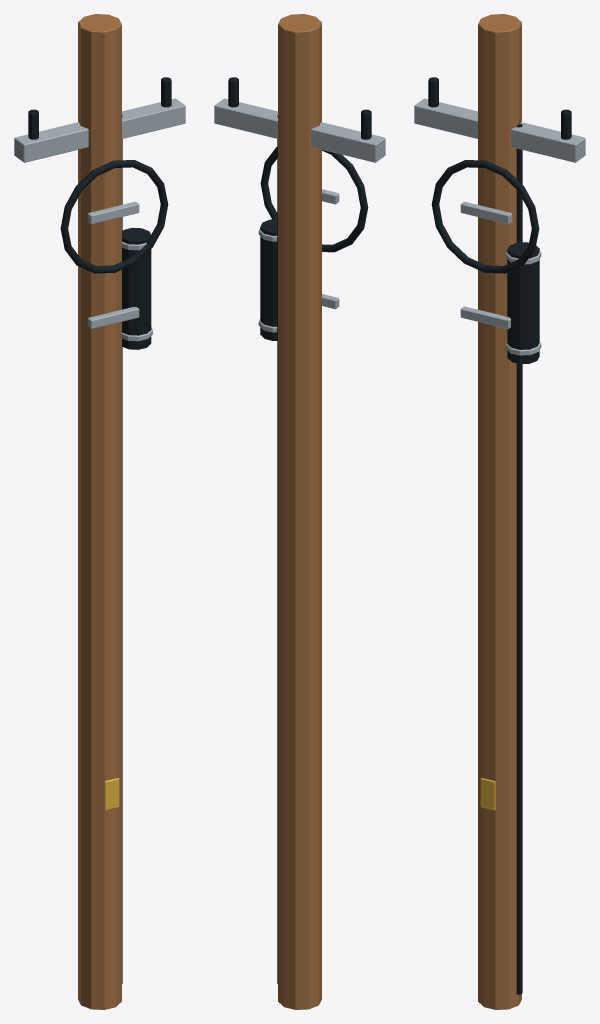
The model's file is b05_telecom_splice_pole.glb.
The picture shows the model from 3 angles, left to right: view 1: azimuth 30°, elevation 25°; view 2: azimuth 150°, elevation 25°; view 3: azimuth 330°, elevation 25°; orthographic projection.
Visible parts, largest first — view 1: b05_telecom_splice_pole; view 2: b05_telecom_splice_pole; view 3: b05_telecom_splice_pole.
Boxes of the visible parts, x1,y1,x2,y2 form: b05_telecom_splice_pole: [14, 14, 185, 1009]; b05_telecom_splice_pole: [214, 14, 385, 1009]; b05_telecom_splice_pole: [414, 14, 585, 1009].
Bounding box in the file's own units: 1.1 × 6.35 × 0.3153.
